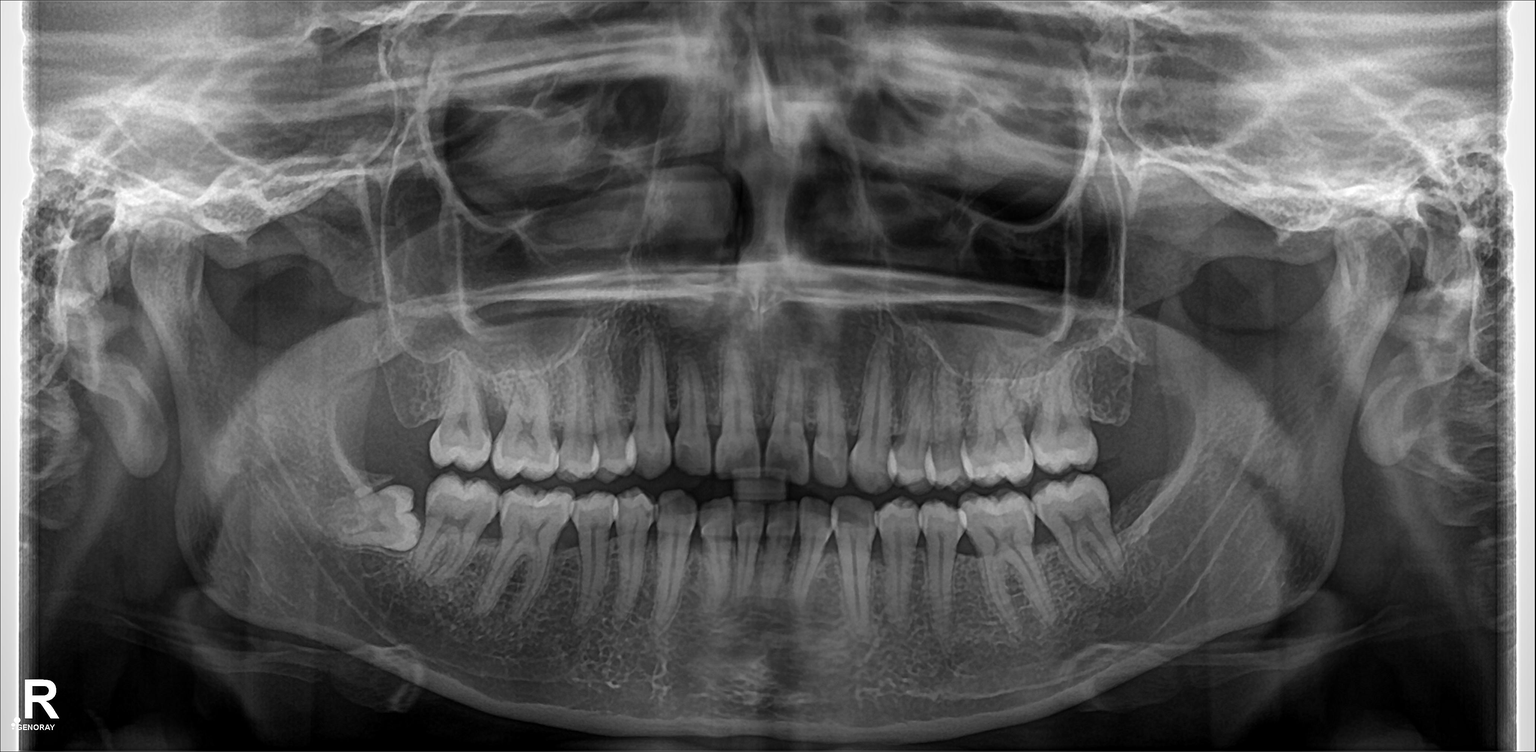Impacted Third Molar: (320, 484, 416, 550)
Missing Tooth: (398, 357, 437, 459), (1101, 344, 1141, 442), (354, 367, 396, 459), (1110, 456, 1158, 530), (1149, 329, 1184, 426)
